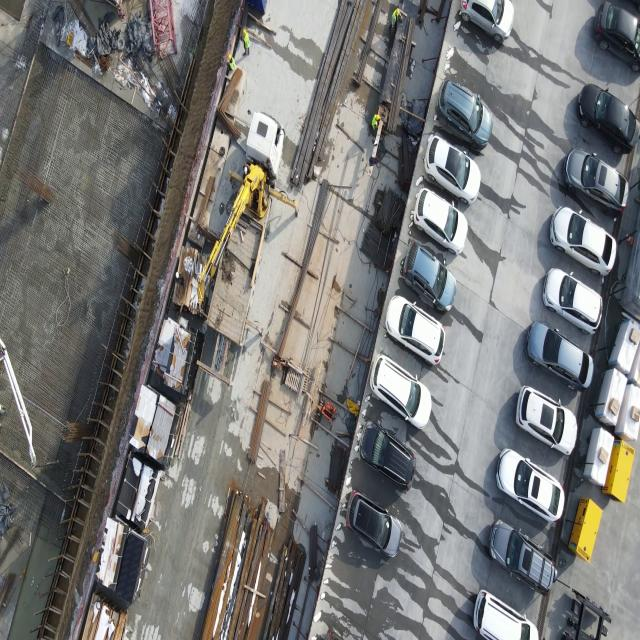p3rson: (388, 7, 403, 32), (174, 271, 188, 290), (242, 28, 250, 56), (370, 112, 380, 134), (226, 53, 236, 71), (243, 162, 251, 175), (0, 401, 6, 415)
